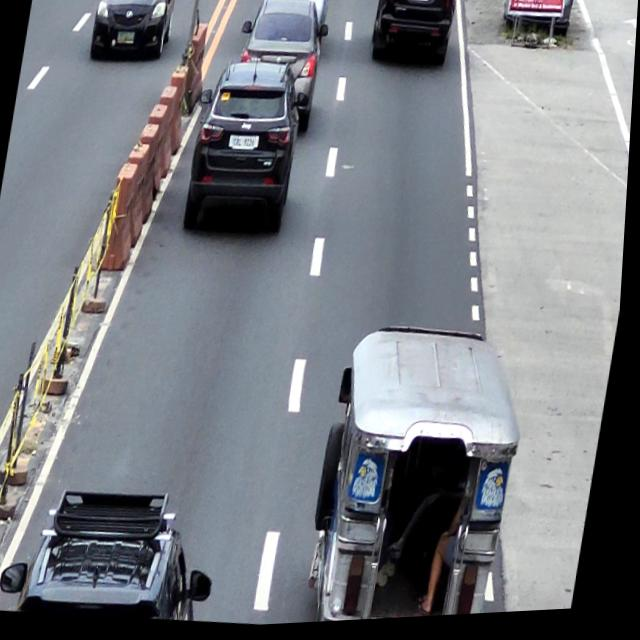Car: (2, 476, 233, 632), (182, 56, 315, 244), (227, 0, 333, 142), (368, 0, 458, 75), (84, 0, 179, 68), (255, 0, 332, 41)
Jeep: (303, 317, 543, 626)
License-Plate: (233, 137, 257, 153), (117, 32, 136, 46), (411, 0, 431, 6)
